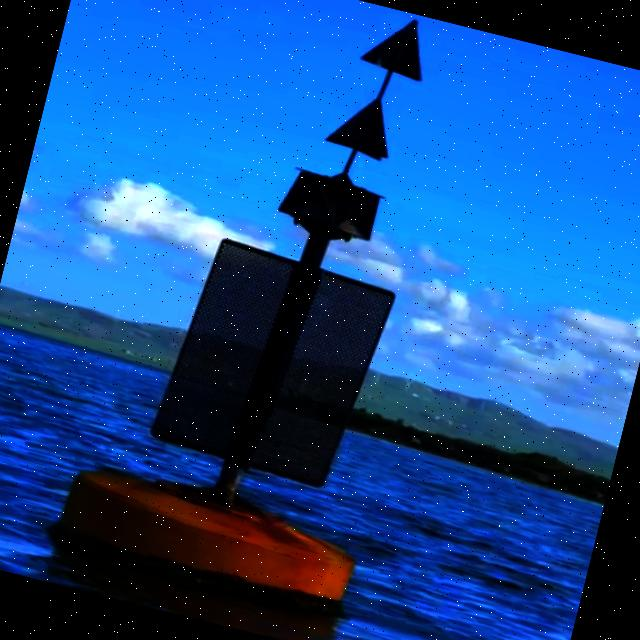marque: (58, 1, 494, 625)
